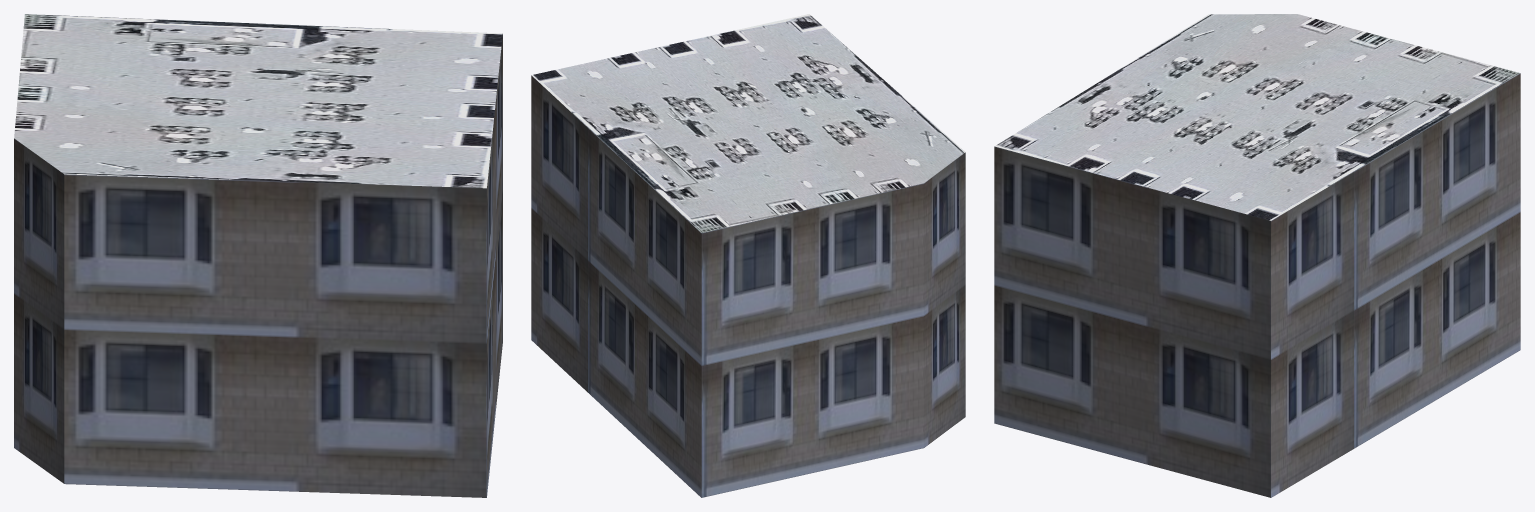
File: ResTex__4029.fbx
3 renders of one model, left to right at view 1: azimuth 30°, elevation 25°; view 2: azimuth 150°, elevation 25°; view 3: azimuth 270°, elevation 25°, orthographic. The views are drawn at different scales.
Visible parts, largest first — view 1: CityEngineMaterial_3_m, CityEngineMaterial_m; view 2: CityEngineMaterial_3_m, CityEngineMaterial_m; view 3: CityEngineMaterial_3_m, CityEngineMaterial_m.
Part boxes in pixels (<box>): CityEngineMaterial_3_m: <box>14,34,502,497</box>; CityEngineMaterial_m: <box>14,14,502,188</box>; CityEngineMaterial_3_m: <box>531,75,965,497</box>; CityEngineMaterial_m: <box>531,14,965,232</box>; CityEngineMaterial_3_m: <box>994,73,1520,497</box>; CityEngineMaterial_m: <box>995,14,1520,220</box>.
Size of the model in its own units: 9.61 by 6 by 10.33.
Materials: 2 (2 with a texture image).
